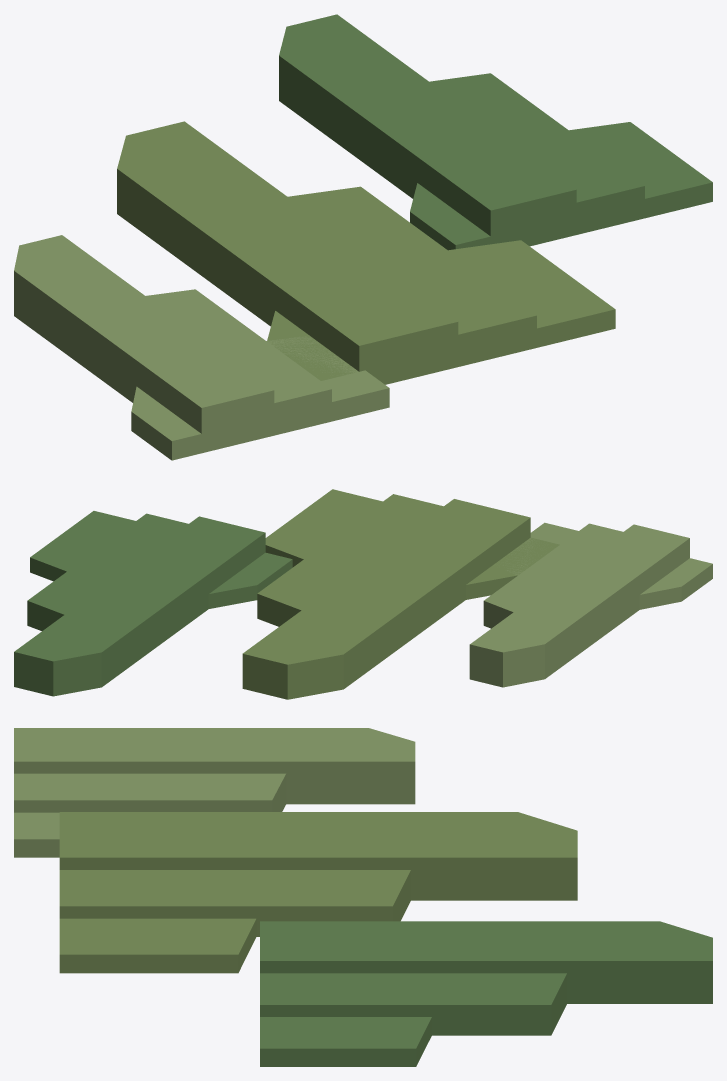
Rendered from veg_rock_moss_mat.glb.
3 views of the same model, one above another, from view 1: azimuth 30°, elevation 25°; view 2: azimuth 150°, elevation 25°; view 3: azimuth 270°, elevation 25° (orthographic). The views are drawn at different scales.
Visible parts, largest first — view 1: clump_0, clump_2, clump_1; view 2: clump_0, clump_2, clump_1; view 3: clump_0, clump_2, clump_1.
Part boxes in pixels (x1,y1,x2,y2): clump_0: (117,121,615,384); clump_2: (279,14,712,250); clump_1: (14,235,389,460); clump_0: (242,489,559,699); clump_2: (14,511,292,696); clump_1: (469,522,712,687); clump_0: (59,812,577,973); clump_2: (260,921,712,1066); clump_1: (14,728,415,857).
Size of the model in its own units: 0.5418 by 0.035 by 0.5167.
